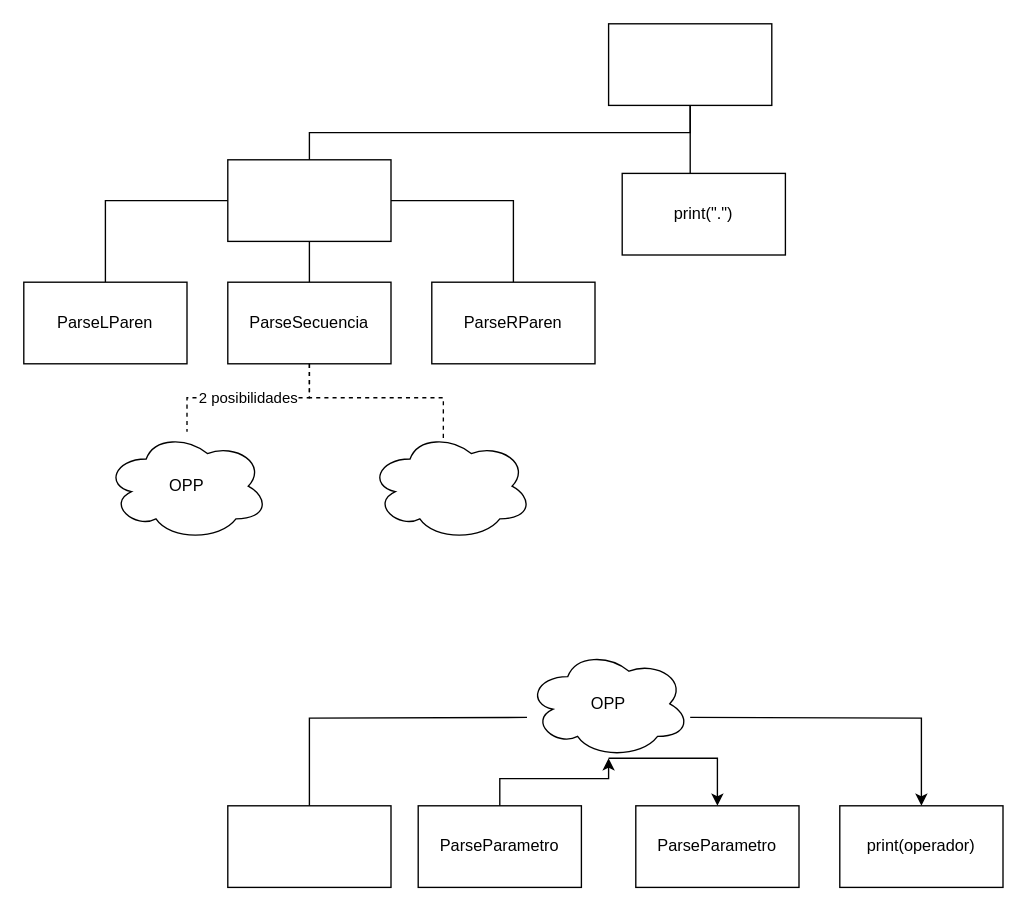
This 1027x911 diagram has some shape labels left out. Each missing label, with the box of its shape:
=VP: (368, 430, 532, 541)
ParseAxiom: (607, 22, 772, 105)
ParseExpresion: (226, 158, 391, 241)
ParseOperator: (226, 804, 391, 887)
